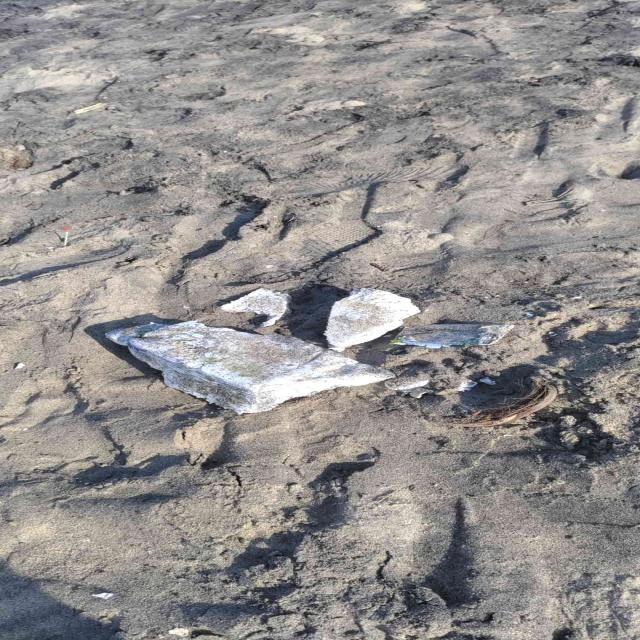rac_huu_co: (444, 382, 558, 428)
xop: (103, 289, 419, 414), (218, 289, 288, 326)
